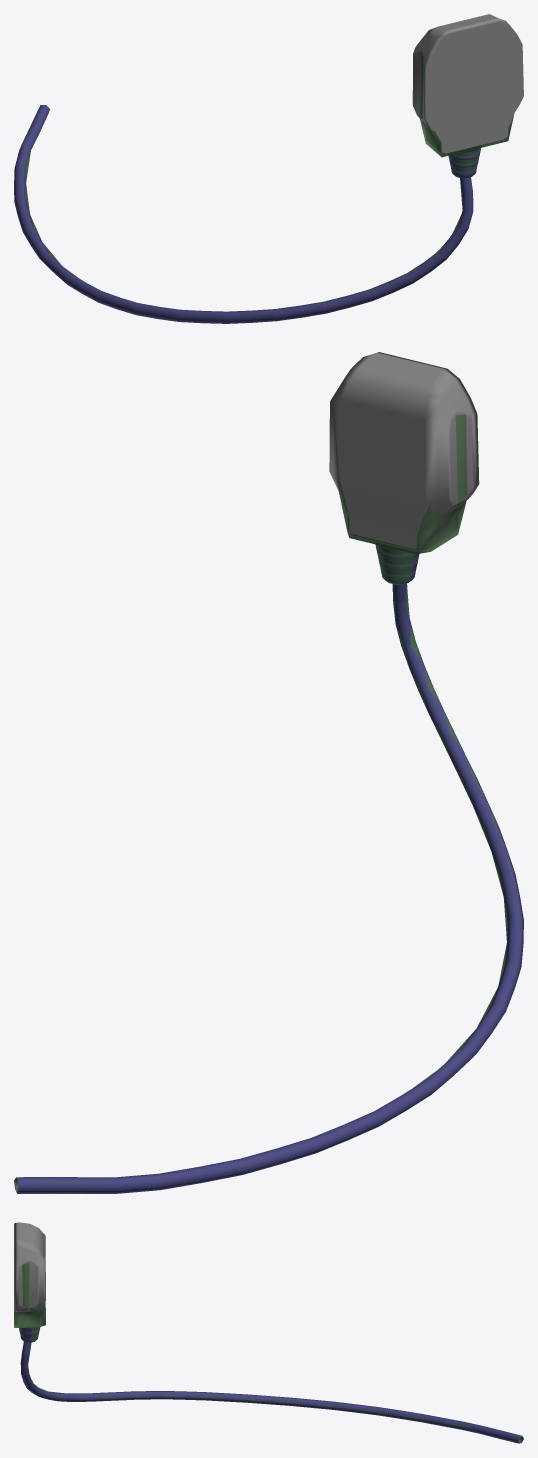
The model's file is PlugCable_02_Mesh.fbx.
3 views of the same model, one above another, from view 1: azimuth 30°, elevation 25°; view 2: azimuth 150°, elevation 25°; view 3: azimuth 270°, elevation 25° (orthographic). The views are drawn at different scales.
Visible parts, largest first — view 1: PlugCableA_01_LOD0, PlugCableA_01_Col; view 2: PlugCableA_01_LOD0, PlugCableA_01_Col; view 3: PlugCableA_01_LOD0, PlugCableA_01_Col.
Part boxes in pixels (x1,y1,x2,y2): PlugCableA_01_LOD0: (14, 14, 523, 323); PlugCableA_01_Col: (17, 53, 514, 313); PlugCableA_01_LOD0: (14, 352, 523, 1193); PlugCableA_01_Col: (14, 414, 519, 1193); PlugCableA_01_LOD0: (14, 1222, 523, 1443); PlugCableA_01_Col: (14, 1262, 522, 1442).
Size of what is drawn, in the model's own units: 19.2 by 24.72 by 46.17.
